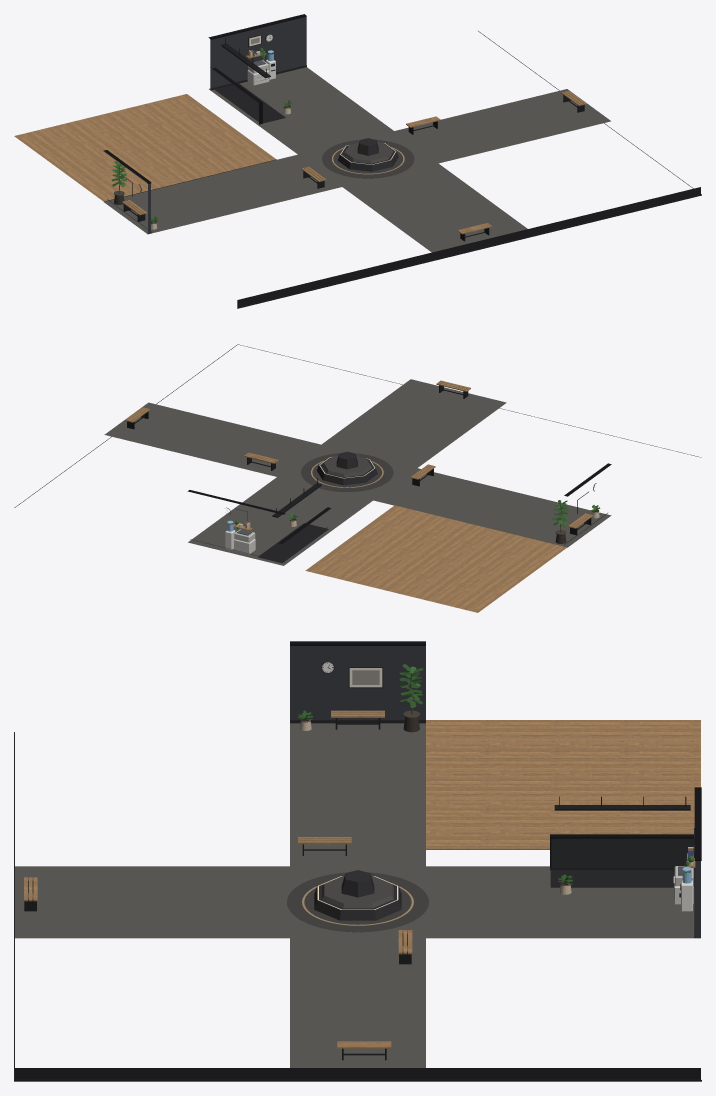
Rendered from atrium.gltf.
The picture shows the model from 3 angles, top to bottom: view 1: azimuth 30°, elevation 25°; view 2: azimuth 150°, elevation 25°; view 3: azimuth 270°, elevation 25°; orthographic projection. The views are drawn at different scales.
Parts seen in each view (by area): view 1: room_atrium, room_lounge; view 2: room_atrium, room_lounge; view 3: room_atrium, room_lounge.
Boxes of the visible parts, x1,y1,x2,y2 form: room_atrium: [103, 14, 701, 308]; room_lounge: [14, 94, 276, 201]; room_atrium: [14, 344, 701, 565]; room_lounge: [305, 505, 566, 612]; room_atrium: [14, 641, 701, 1081]; room_lounge: [426, 720, 700, 849].
Size of the model in its own units: 26.06 by 3.21 by 21.76.
16 materials, 2 textured.
